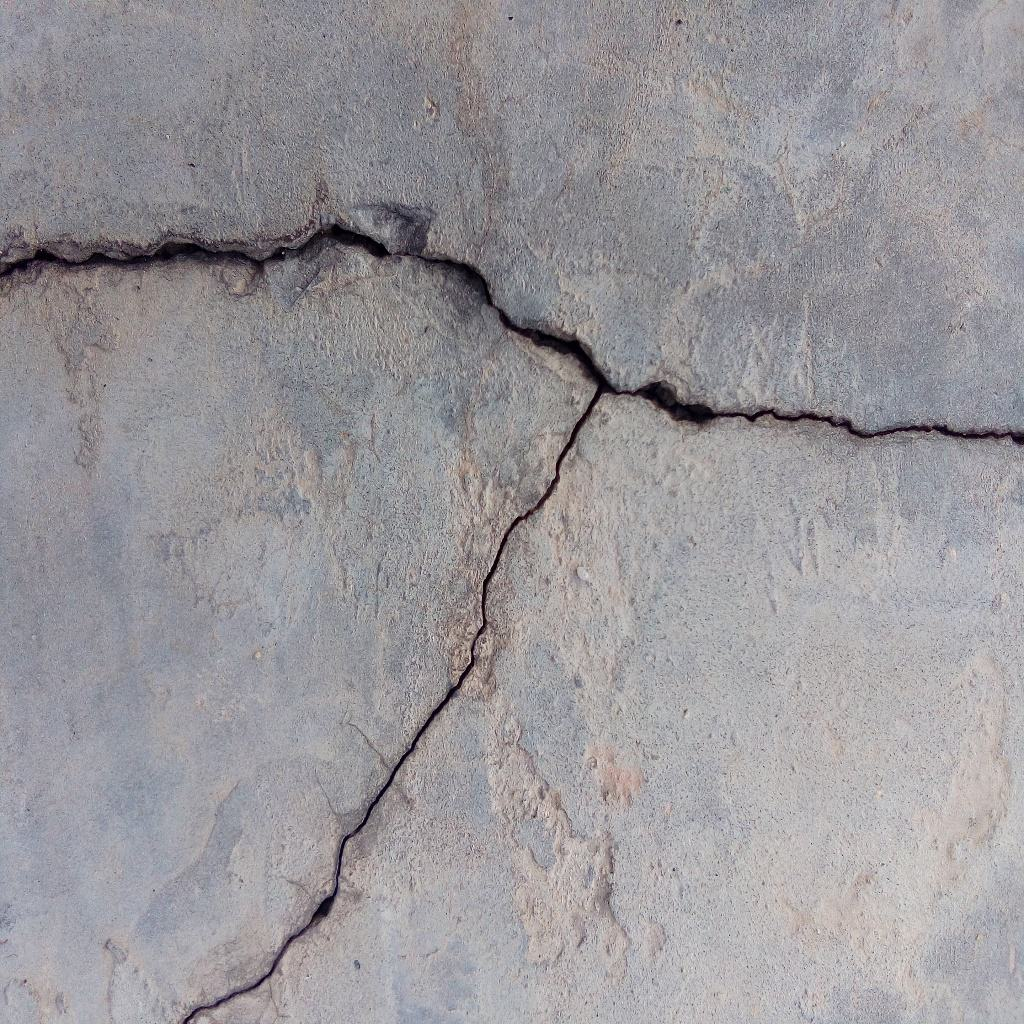Crack: (180, 388, 606, 1024), (1, 198, 606, 388), (606, 379, 1024, 443)
